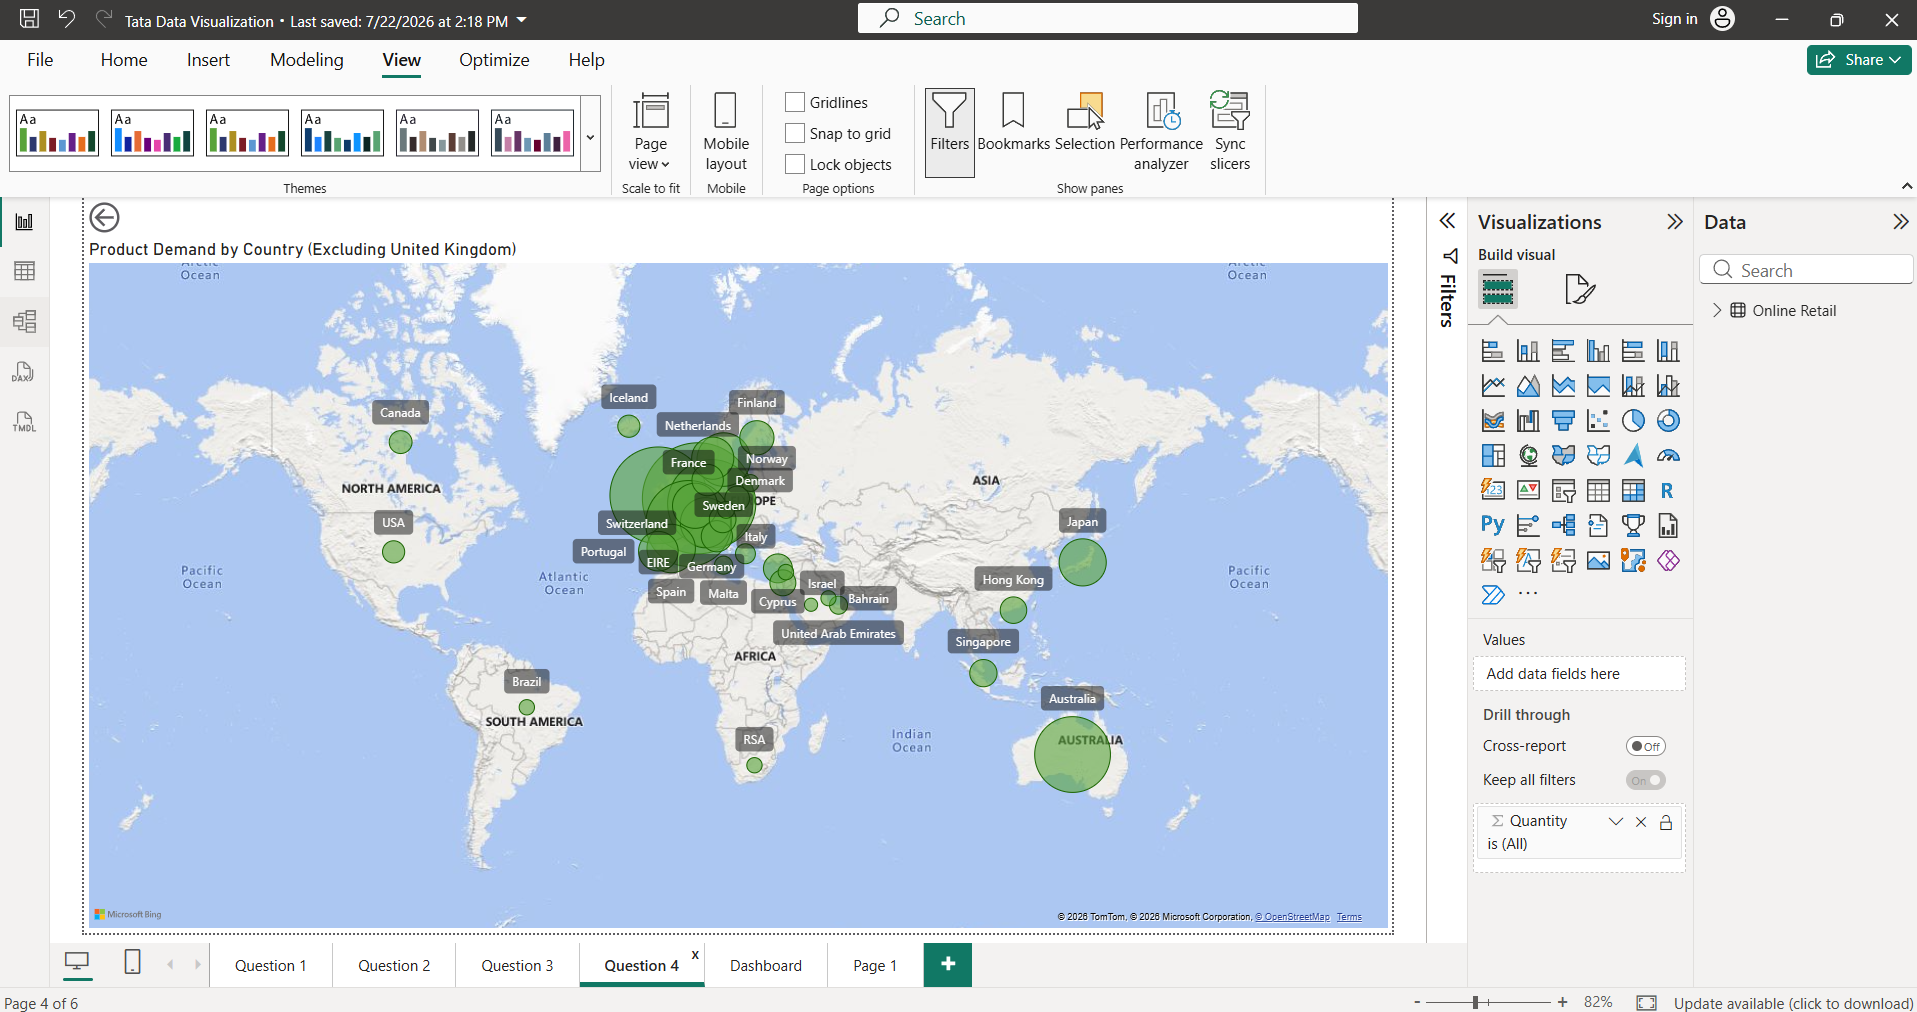

What the dashboard file says about the page in this screenshot:
{"tool":"powerbi","page":{"name":"Question 4","canvas":[1280,720],"ordinal":3},"visuals":[{"type":"actionButton","box":[0,0,100,40],"z":0},{"type":"map","title":"Product Demand by Country (Excluding United Kingdom)","fields":{"Category":["Online Retail.Country"],"Size":["Sum(Online Retail.Quantity)"]},"box":[0,39.8,1280.3,680.6],"z":1000}]}

Visuals, with their boxes on the page's 1280x720 design canvas (x1, y1, x2, y2). These are canvas units, not pixel positions in the 1917x1012 screenshot, which may show the page scaled, cropped or inside an application window:
actionButton: 0,0,100,40
"Product Demand by Country (Excluding United Kingdom)" map: 0,40,1280,720
